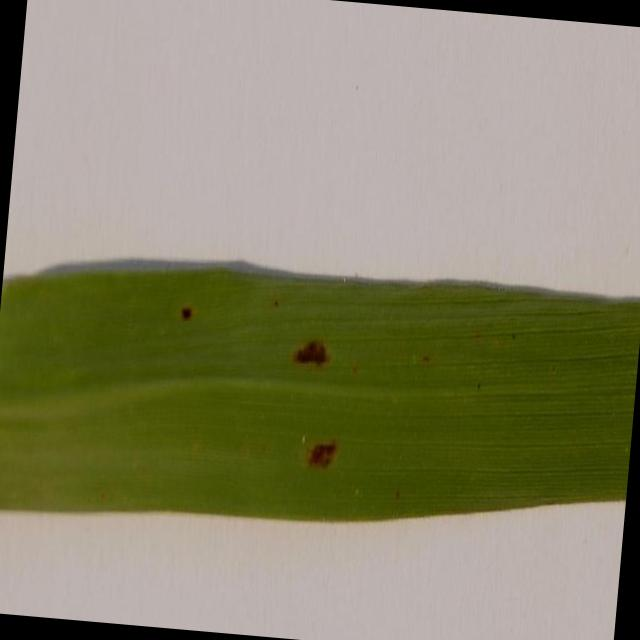Rice_Brownspot: (282, 304, 352, 404), (302, 423, 356, 482), (168, 287, 208, 343)
